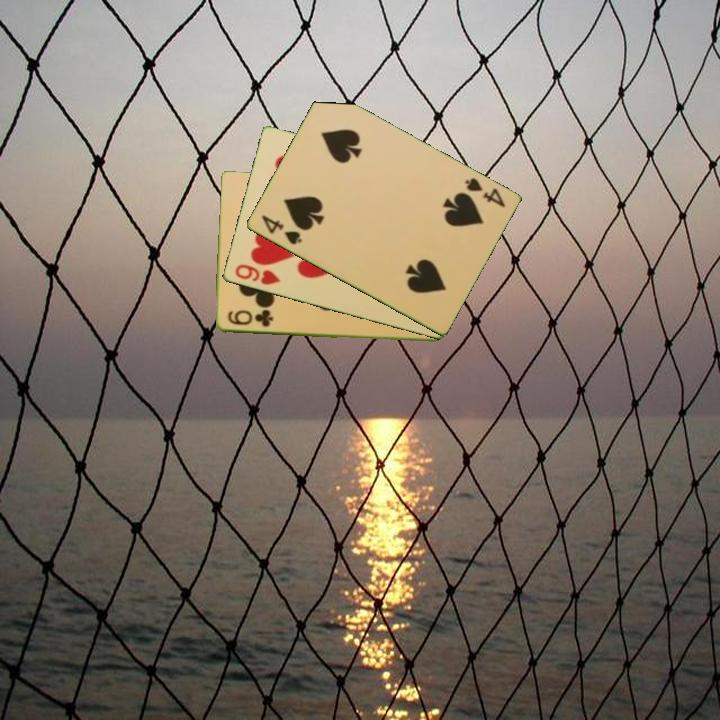4s: (461, 174, 508, 211), (258, 212, 305, 248)
6c: (224, 307, 276, 330)
9h: (231, 261, 283, 288)
